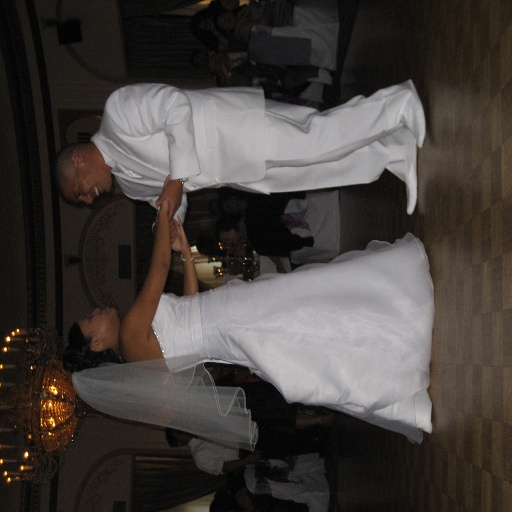hand: (156, 176, 184, 221), (167, 213, 188, 252), (155, 211, 177, 242), (159, 174, 168, 216), (220, 61, 228, 78), (274, 265, 286, 275)
